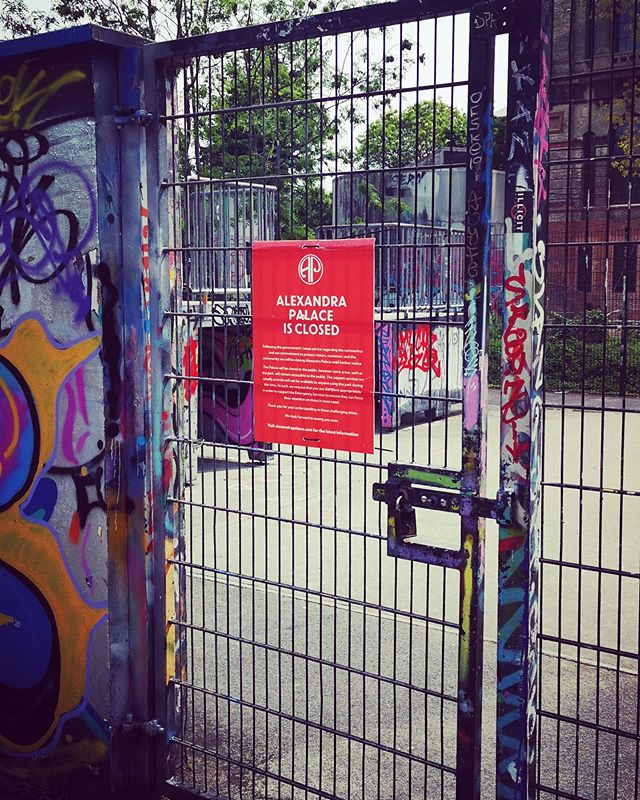building: (511, 1, 640, 368)
graffiti: (1, 39, 126, 774), (499, 255, 534, 510), (379, 321, 450, 391)
sign: (250, 233, 376, 457)
